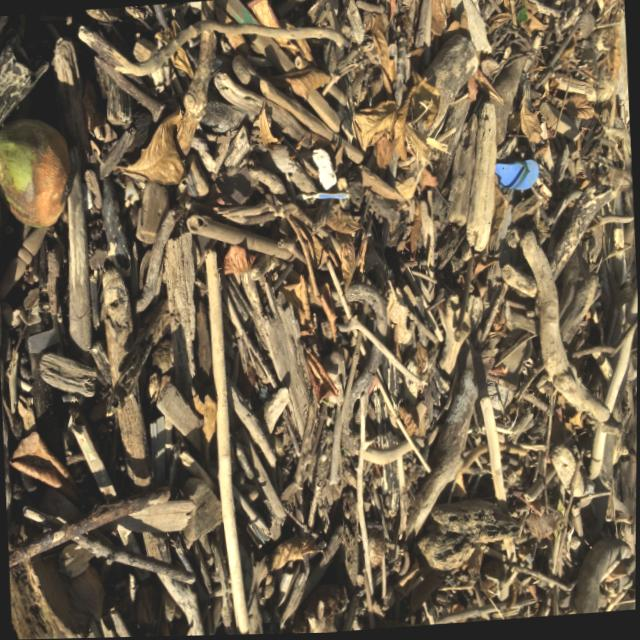Plastic: (484, 145, 549, 211)
